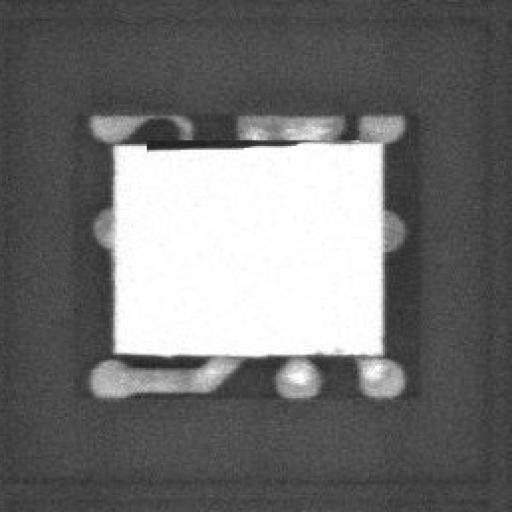DIE_BROKEN: (139, 132, 286, 152)
